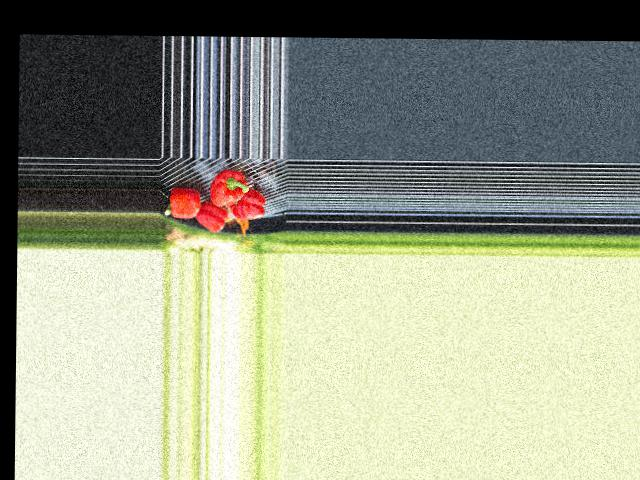bell_pepper: (229, 190, 266, 221)
